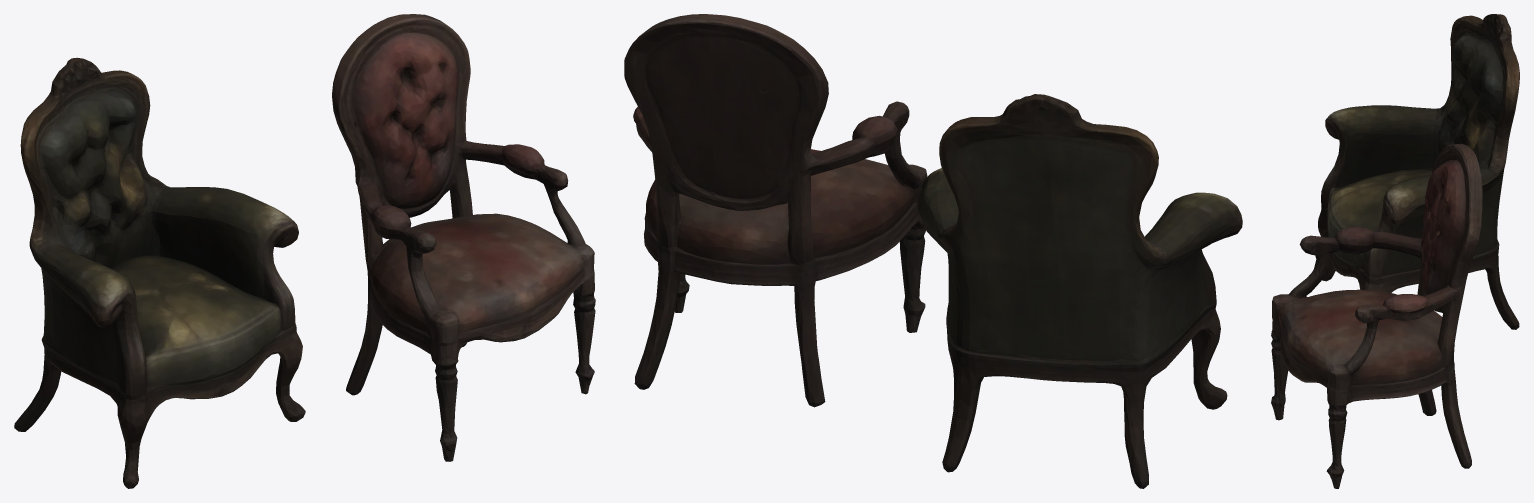
The model's file is fancy_chairs.glb.
The picture shows the model from 3 angles, left to right: view 1: azimuth 30°, elevation 25°; view 2: azimuth 150°, elevation 25°; view 3: azimuth 270°, elevation 25°; orthographic projection. The views are drawn at different scales.
Parts seen in each view (by area): view 1: geometry_0; view 2: geometry_0; view 3: geometry_0.
Boxes of the visible parts, x1,y1,x2,y2 form: geometry_0: (14,14,595,488); geometry_0: (624,14,1242,488); geometry_0: (1271,14,1519,488).
Size of the model in its own units: 0.999 by 0.6938 by 0.5128.
1 material, 1 textured.
